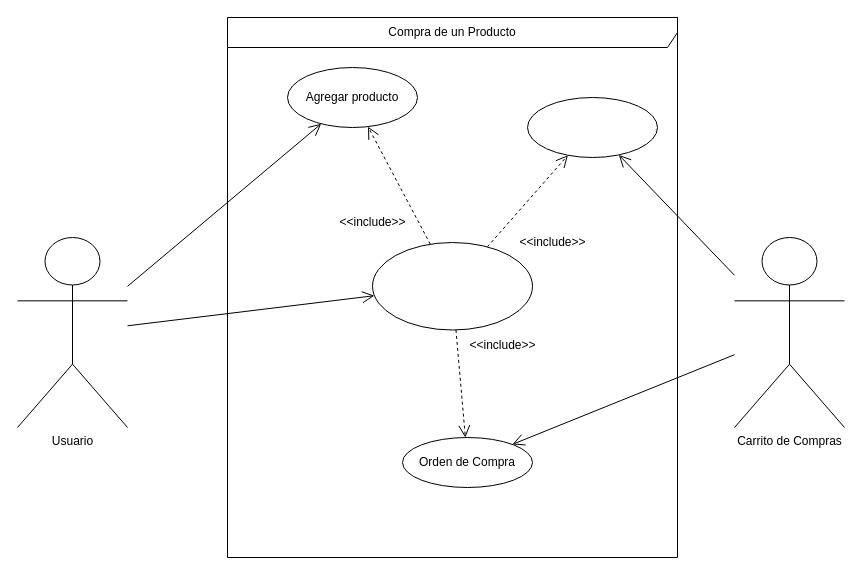
This 862x575 diagram has some shape labels left out. The shapes that lost their labels are listed below. From the top down, each one's box as (x1, y1, x2, y2) in pixels, then its label:
(526, 96, 658, 158): Almacenar productos
(372, 242, 532, 330): Comprar Producto
